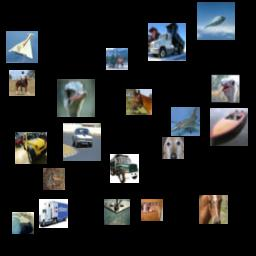airplane: (197, 2, 235, 40), (6, 31, 38, 63), (171, 107, 200, 136), (104, 199, 130, 225)
automobile: (63, 123, 101, 161), (15, 132, 47, 164)
bird: (57, 79, 95, 117), (211, 74, 240, 103)
cat: (12, 212, 34, 234), (141, 199, 163, 221)
deer: (106, 48, 128, 70), (43, 168, 65, 190)
dog: (162, 137, 184, 159)
ship: (210, 108, 248, 146)
truck: (148, 23, 186, 61), (110, 154, 139, 183), (39, 199, 68, 228)
